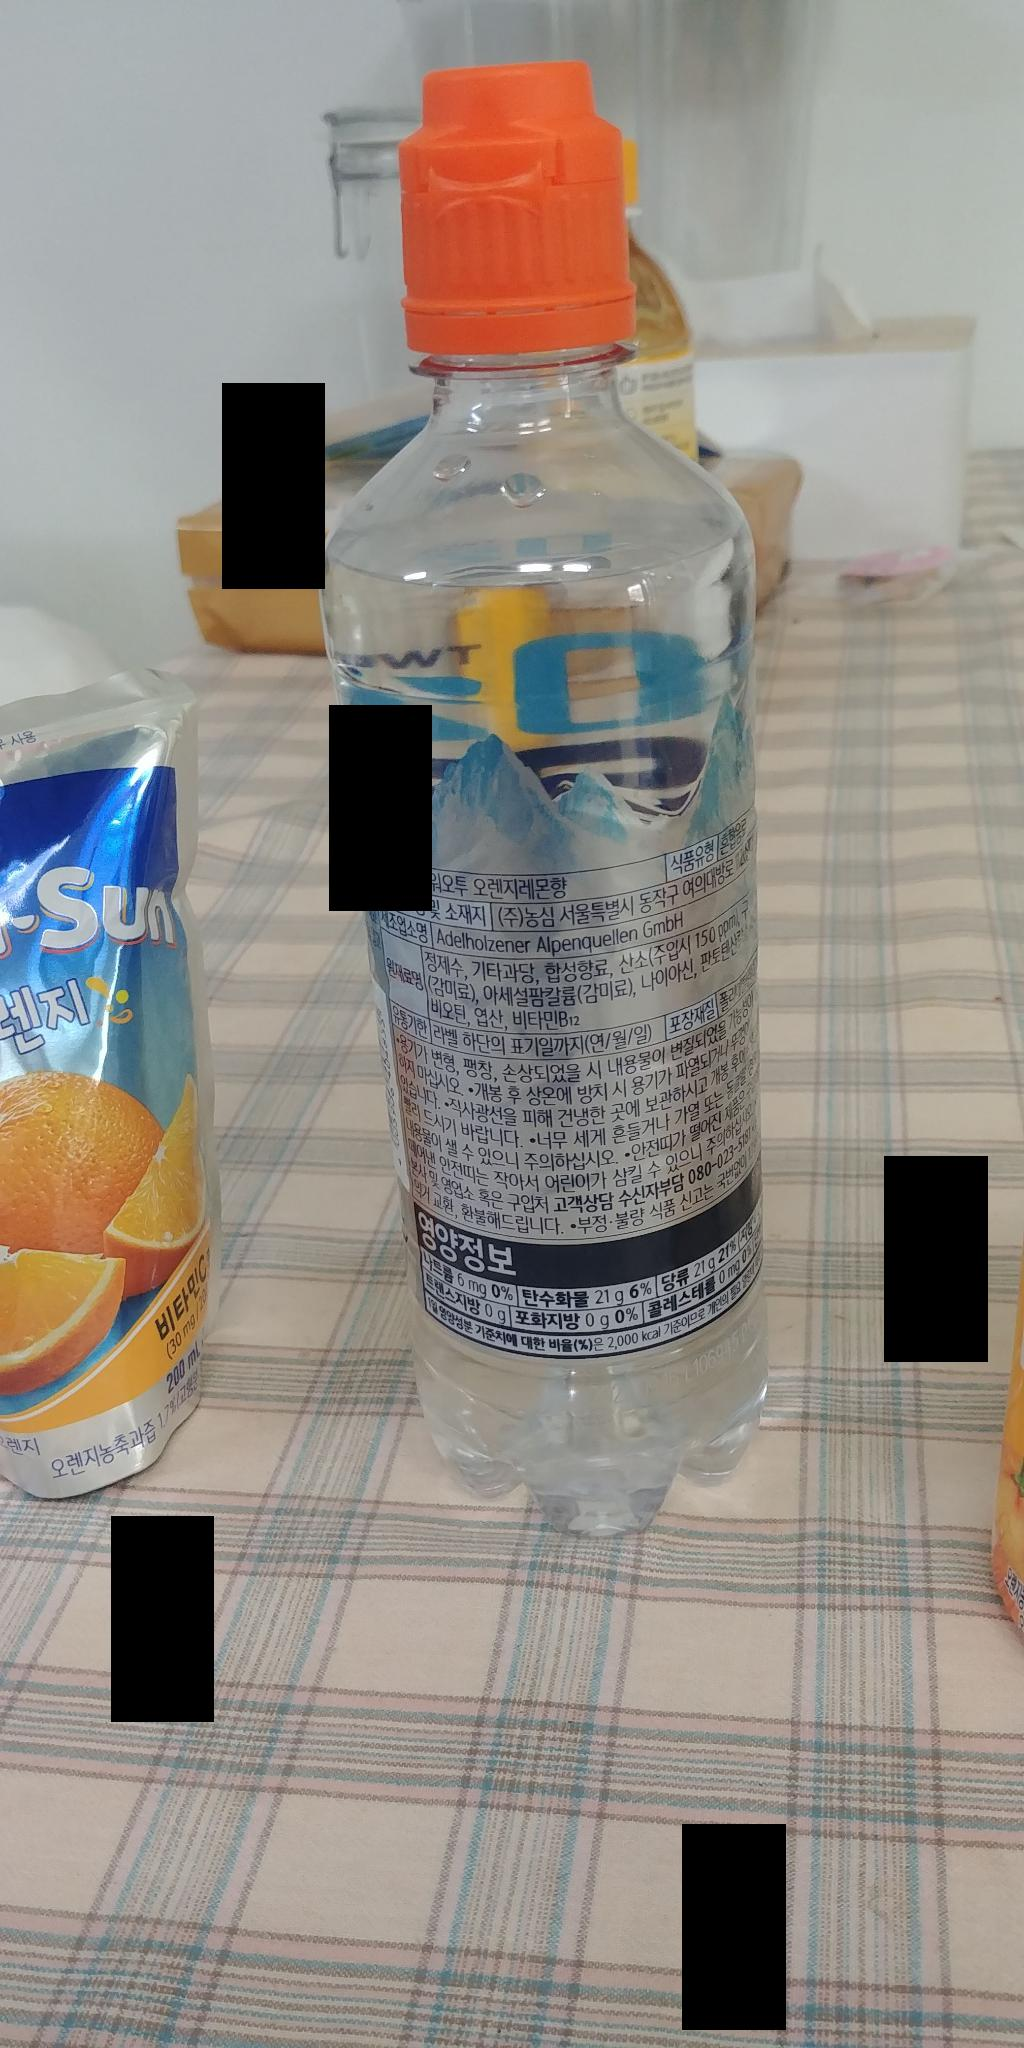powerO2_orange: (289, 42, 808, 1553)
